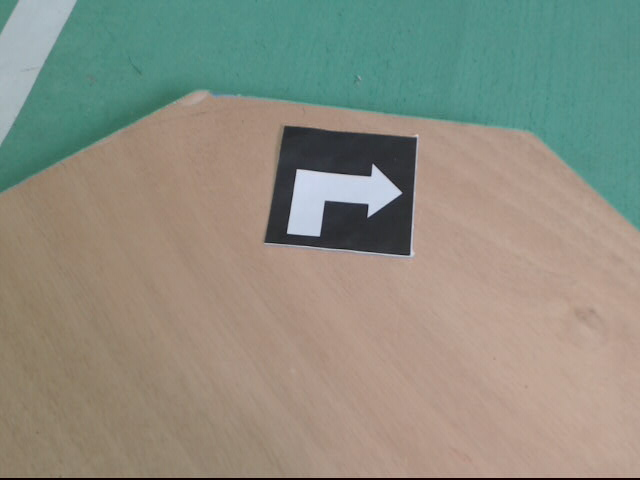right: (265, 127, 420, 254)
